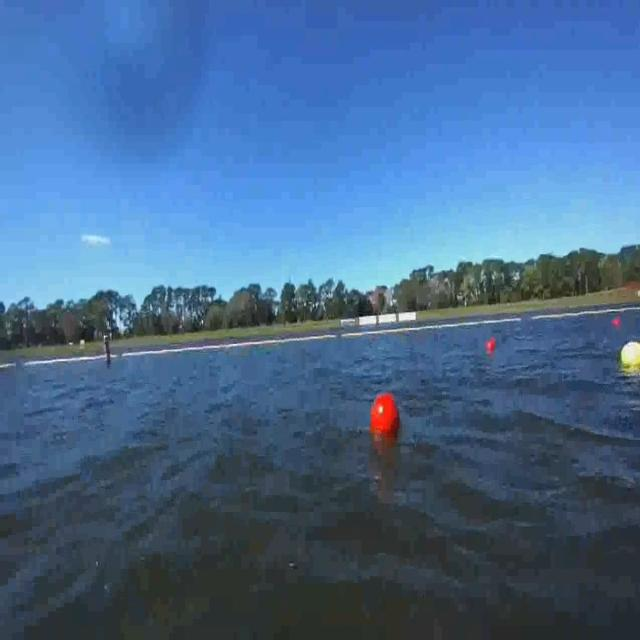red-buoy: (372, 394, 399, 434), (488, 339, 496, 352)
yellow-buoy: (620, 344, 640, 369)
